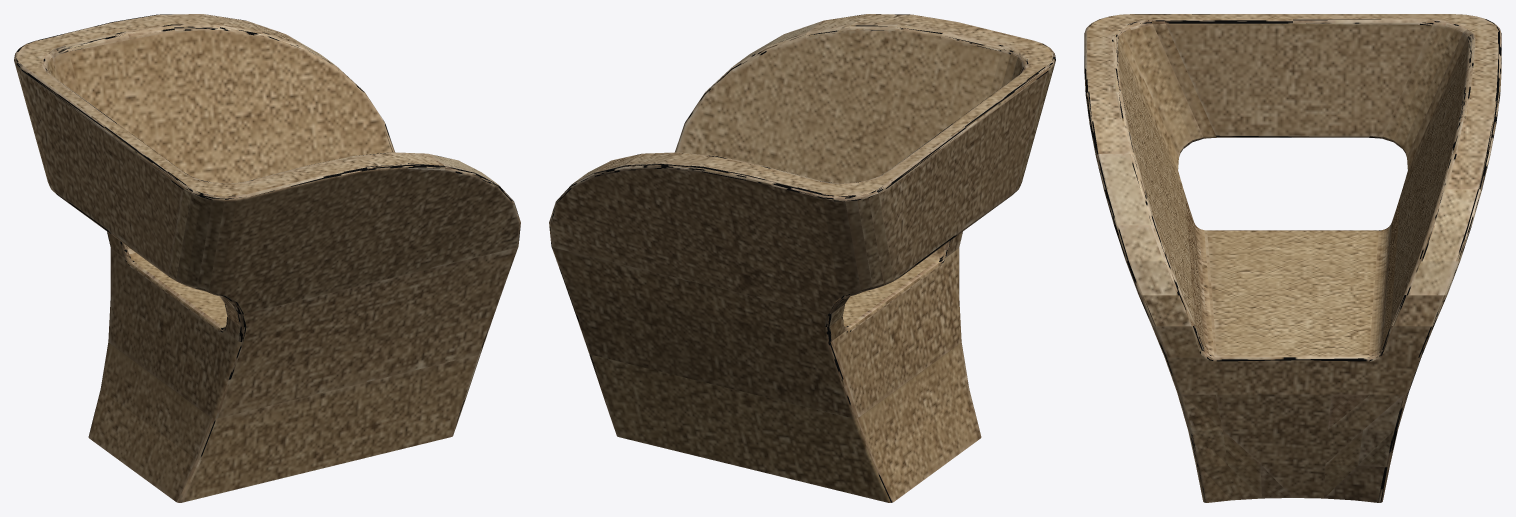
The picture shows the model from 3 angles, left to right: view 1: azimuth 30°, elevation 25°; view 2: azimuth 150°, elevation 25°; view 3: azimuth 270°, elevation 25°; orthographic projection.
Visible parts, largest first — view 1: Node; view 2: Node; view 3: Node.
Part boxes in pixels (x1=…): Node: x1=14, y1=14, x2=520, y2=502; Node: x1=549, y1=14, x2=1055, y2=502; Node: x1=1084, y1=14, x2=1501, y2=502.
Size of the model in its own units: 0.6565 by 0.6363 by 0.7.
1 material, 1 textured.
